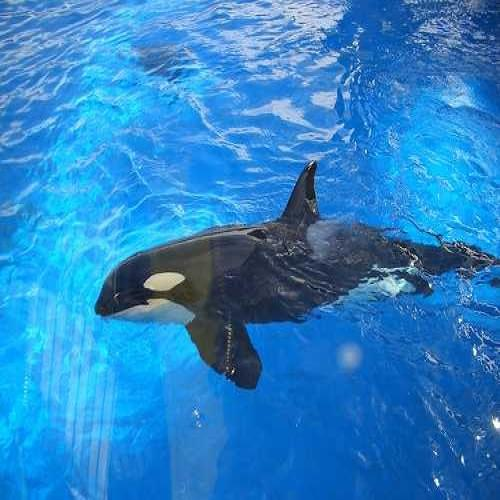killer_whale-endangered: (83, 152, 485, 345)
